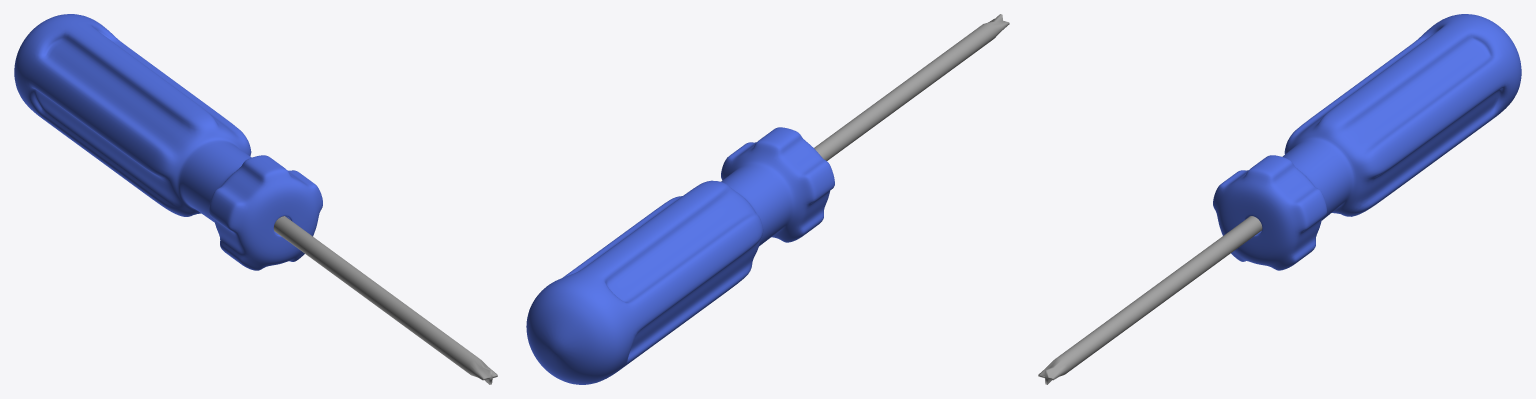
File: screw_driver2.fbx
3 views of the same model, side by side, from view 1: azimuth 30°, elevation 25°; view 2: azimuth 150°, elevation 25°; view 3: azimuth 330°, elevation 25° (orthographic).
Visible parts, largest first — view 1: Cylinder, Cylinder.001; view 2: Cylinder, Cylinder.001; view 3: Cylinder, Cylinder.001.
Boxes of the visible parts, left/top/right/bottom form: Cylinder: left=14, top=14, right=322, bottom=270; Cylinder.001: left=273, top=216, right=497, bottom=384; Cylinder: left=526, top=127, right=834, bottom=384; Cylinder.001: left=814, top=14, right=1009, bottom=160; Cylinder: left=1213, top=14, right=1521, bottom=270; Cylinder.001: left=1038, top=216, right=1262, bottom=384.
Size of the model in its own units: 292 by 292 by 2351.
